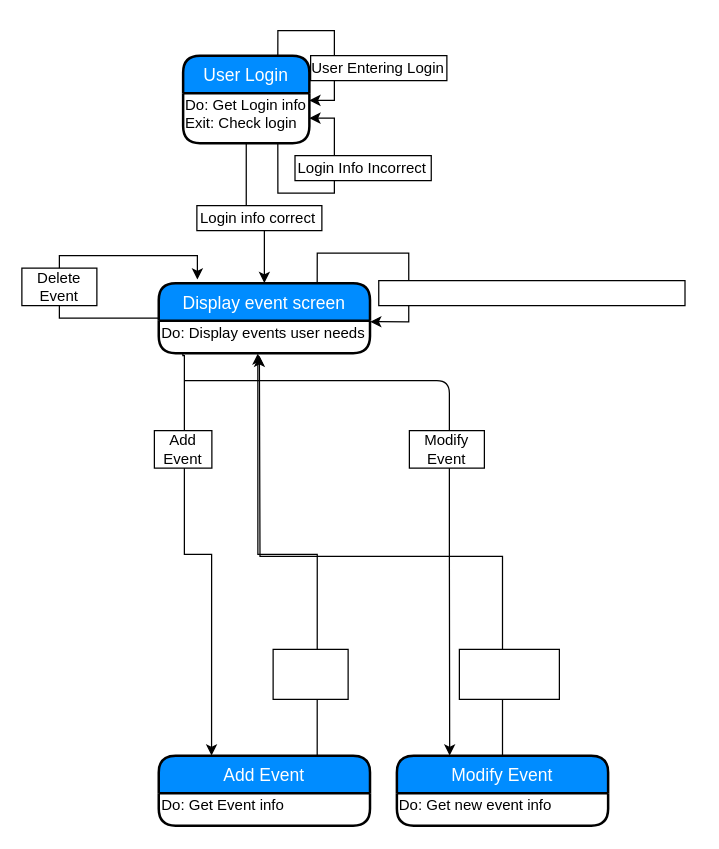
This 719x849 diagram has some shape labels left out. The shapes that lost their labels are listed below. From the top down, each one's centre as x and y in pixels, then its label:
At point (531, 292): "User Inputs Start/End date events to display".
At point (310, 673): "Save Event to File".
At point (508, 673): "Save modified event to file".
